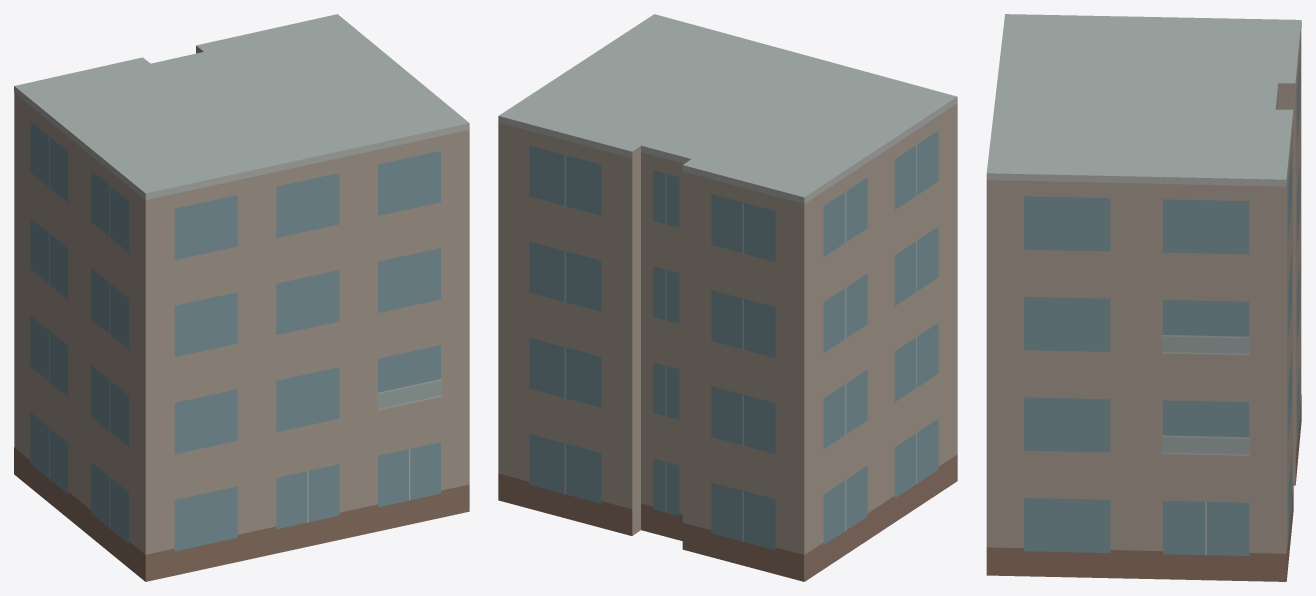
Rendered from survey-upis-32803805.glb.
The picture shows the model from 3 angles, left to right: view 1: azimuth 30°, elevation 25°; view 2: azimuth 150°, elevation 25°; view 3: azimuth 270°, elevation 25°; orthographic projection. The views are drawn at different scales.
Visible parts, largest first — view 1: survey-upis-32803805.tmp; view 2: survey-upis-32803805.tmp; view 3: survey-upis-32803805.tmp.
Part boxes in pixels (<box>): survey-upis-32803805.tmp: <box>14,14,469,581</box>; survey-upis-32803805.tmp: <box>498,14,957,581</box>; survey-upis-32803805.tmp: <box>986,14,1301,581</box>.
Size of the model in its own units: 12.56 by 14.2 by 10.08.
